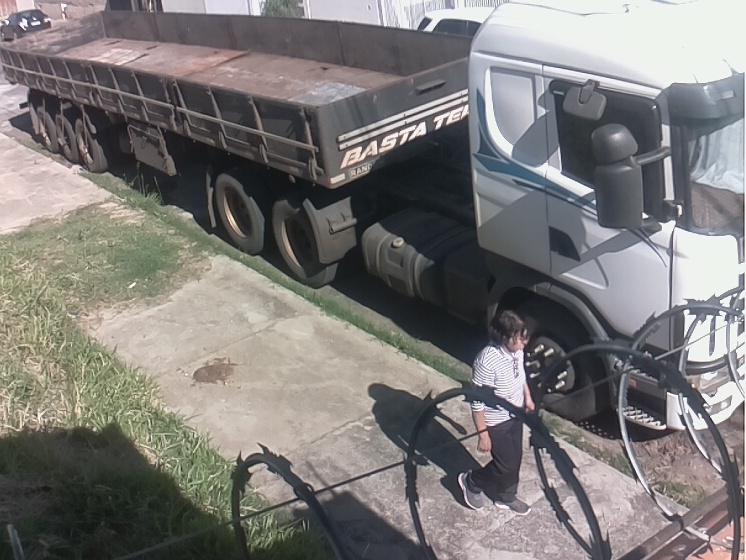person: (456, 308, 536, 518)
